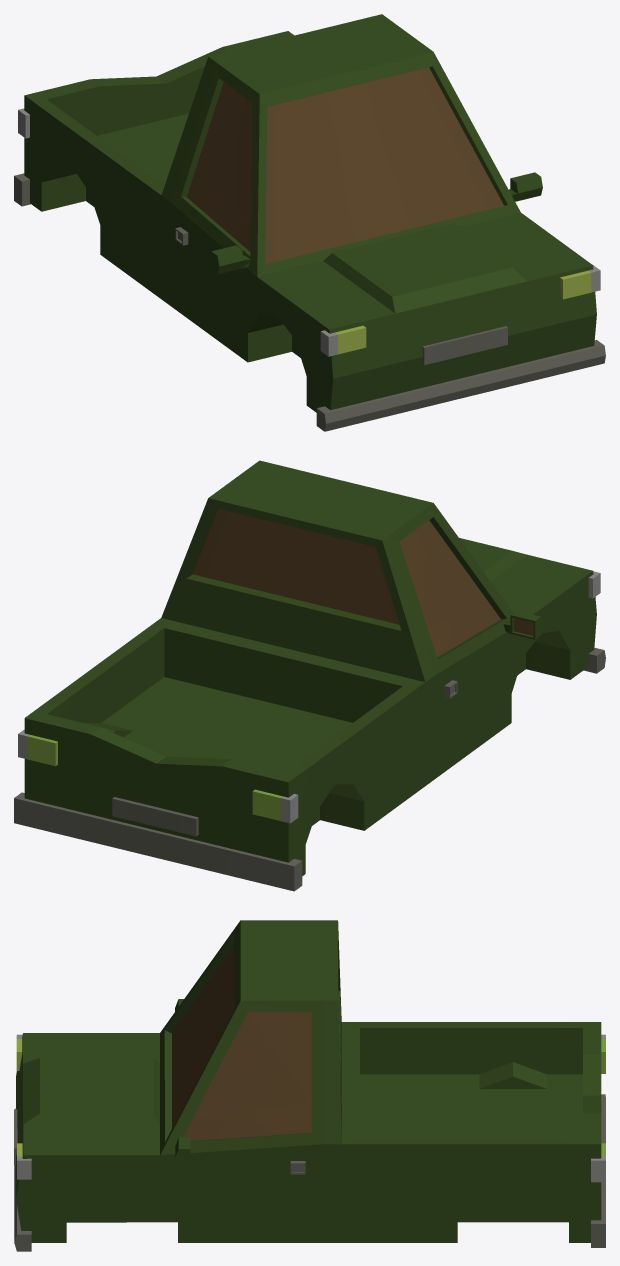
The model's file is Car_03.fbx.
3 views of the same model, one above another, from view 1: azimuth 30°, elevation 25°; view 2: azimuth 150°, elevation 25°; view 3: azimuth 270°, elevation 25° (orthographic). The views are drawn at different scales.
Parts seen in each view (by area): view 1: Car_03; view 2: Car_03; view 3: Car_03.
Part boxes in pixels (<box>): Car_03: <box>14,14,605,431</box>; Car_03: <box>14,460,605,891</box>; Car_03: <box>14,920,605,1251</box>.
Bounding box in the file's own units: 1.96 × 1.38 × 3.27.
